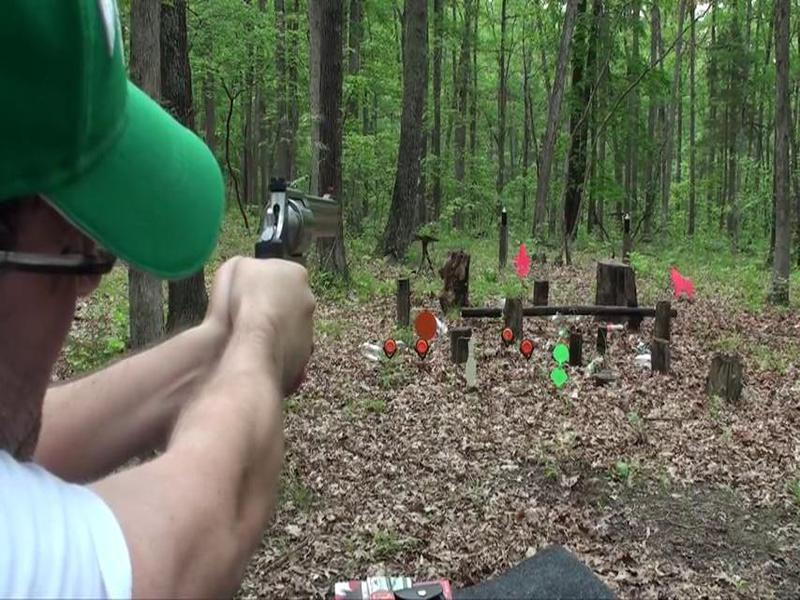Revolver: (252, 154, 363, 305)
